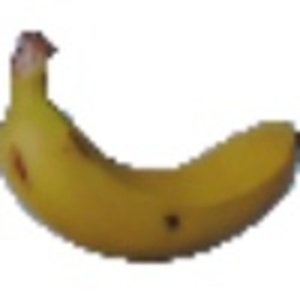banana: (5, 22, 298, 265)
